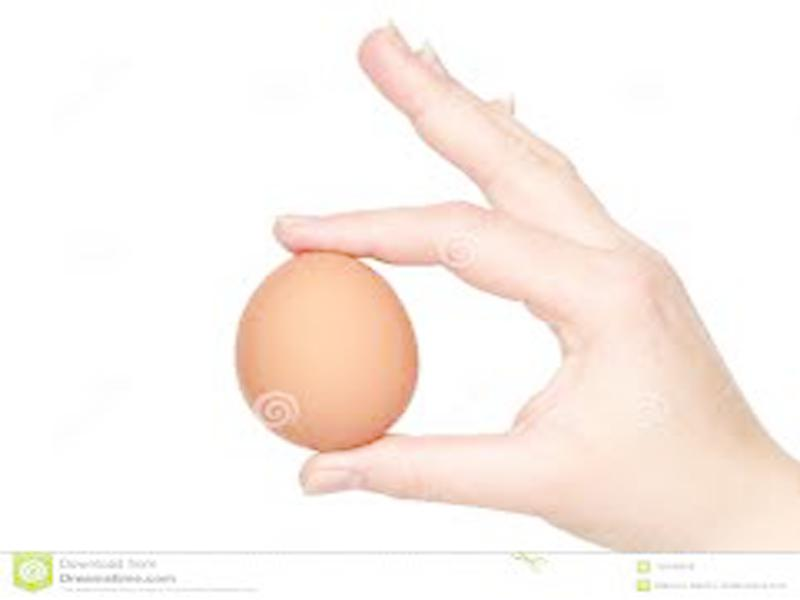Eggs: (232, 250, 422, 454)
